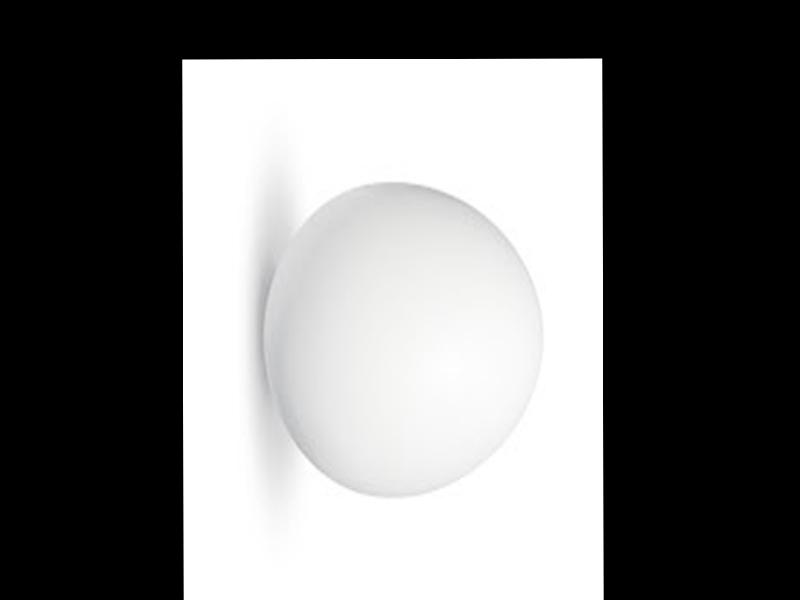Eggs: (264, 187, 545, 496)
